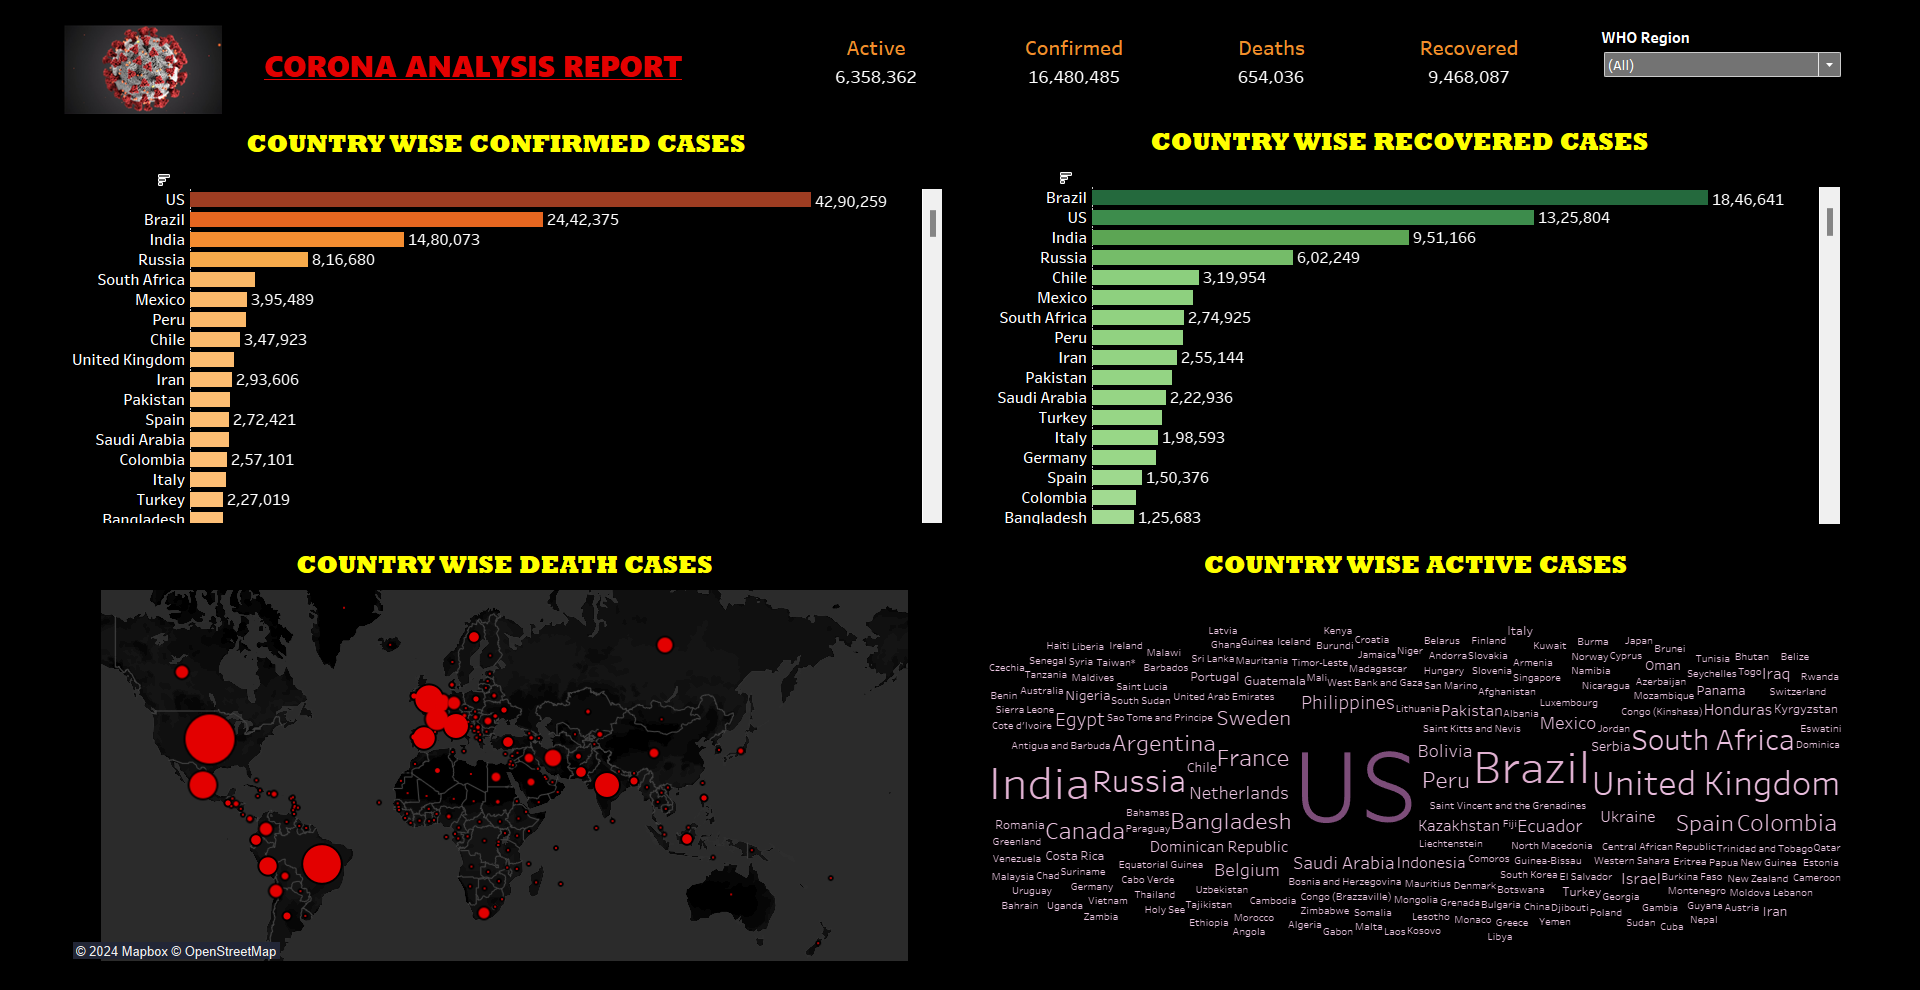

The dashboard page shown, as its layout file describes it:
{"tool":"tableau","page":{"name":"Dashboard 1","canvas":[1000,1000],"units":"permille","ordinal":0},"visuals":[{"type":"image","param":"C:/Users/RITIKA SINGH/Downloads/Corona.jpg","box":[33.2,20,82.7,104.9]},{"type":"filter","title":"Sheet 3","param":"[federated.0g17juk0rjjr8i1cdibfn0c2n6s3].[none:Country/Region:nk]","box":[843.1,22.5,115.3,91.1]},{"type":"worksheet","title":"Sheet 6","mark":"Automatic","box":[403.7,30,414.6,82.4]},{"type":"text","box":[135.8,33.7,256.5,67.4]},{"type":"worksheet","title":"Sheet 2","mark":"Automatic","rows":["Country/Region"],"cols":["Recovered"],"box":[510.6,124.8,447.8,404.5]},{"type":"worksheet","title":"Sheet 3","mark":"Automatic","rows":["Country/Region"],"cols":["Confirmed"],"box":[36.2,127.3,454.4,402]},{"type":"worksheet","title":"Sheet 4","mark":"Automatic","box":[36.2,550.6,452.6,430.7]},{"type":"worksheet","title":"Sheet 5","mark":"Text","box":[514.8,550.6,445.4,432]}]}

Visuals, with their boxes on the dashboard's canvas, which has no fixed pixel size, in thousandths of its width and height (x1, y1, x2, y2). These are canvas units, not pixel positions in the 1920x990 screenshot, which may show the page scaled, cropped or inside an application window:
image: (33,20,116,125)
"Sheet 3" filter: (843,22,958,114)
"Sheet 6" worksheet: (404,30,818,112)
text: (136,34,392,101)
"Sheet 2" worksheet: (511,125,958,529)
"Sheet 3" worksheet: (36,127,491,529)
"Sheet 4" worksheet: (36,551,489,981)
"Sheet 5" worksheet (Text marks): (515,551,960,983)
